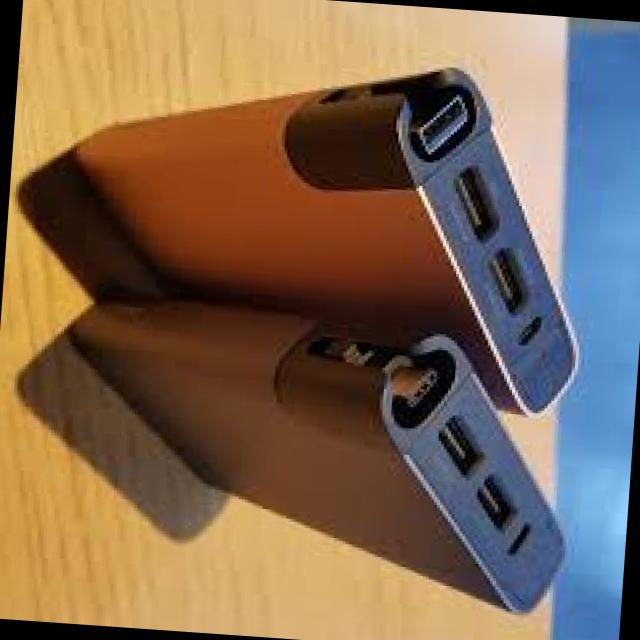portable-charger: (3, 31, 604, 421), (49, 286, 582, 622)
